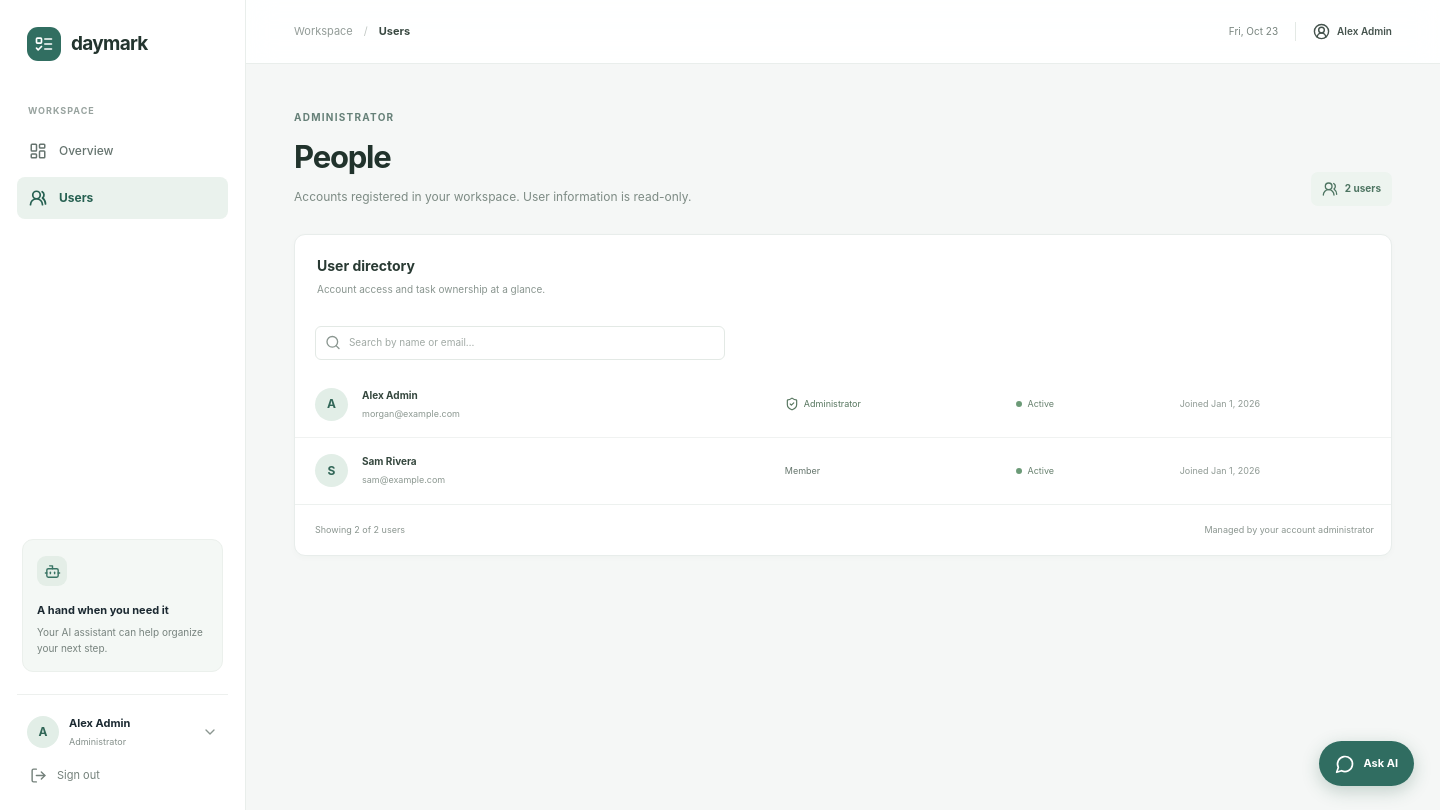
Test: authentication and route access › lets admins search the supported read-only user directory
The width and height of the screenshot is (1440, 810).
Expected: the heading "People" is shown, [294,138,390,175]
Expected: the text "Sam Rivera" is shown, [362,455,417,467]
Step 1. Type "alex" into the field named "Search users" → x=532, y=342, box [349,335,715,350]
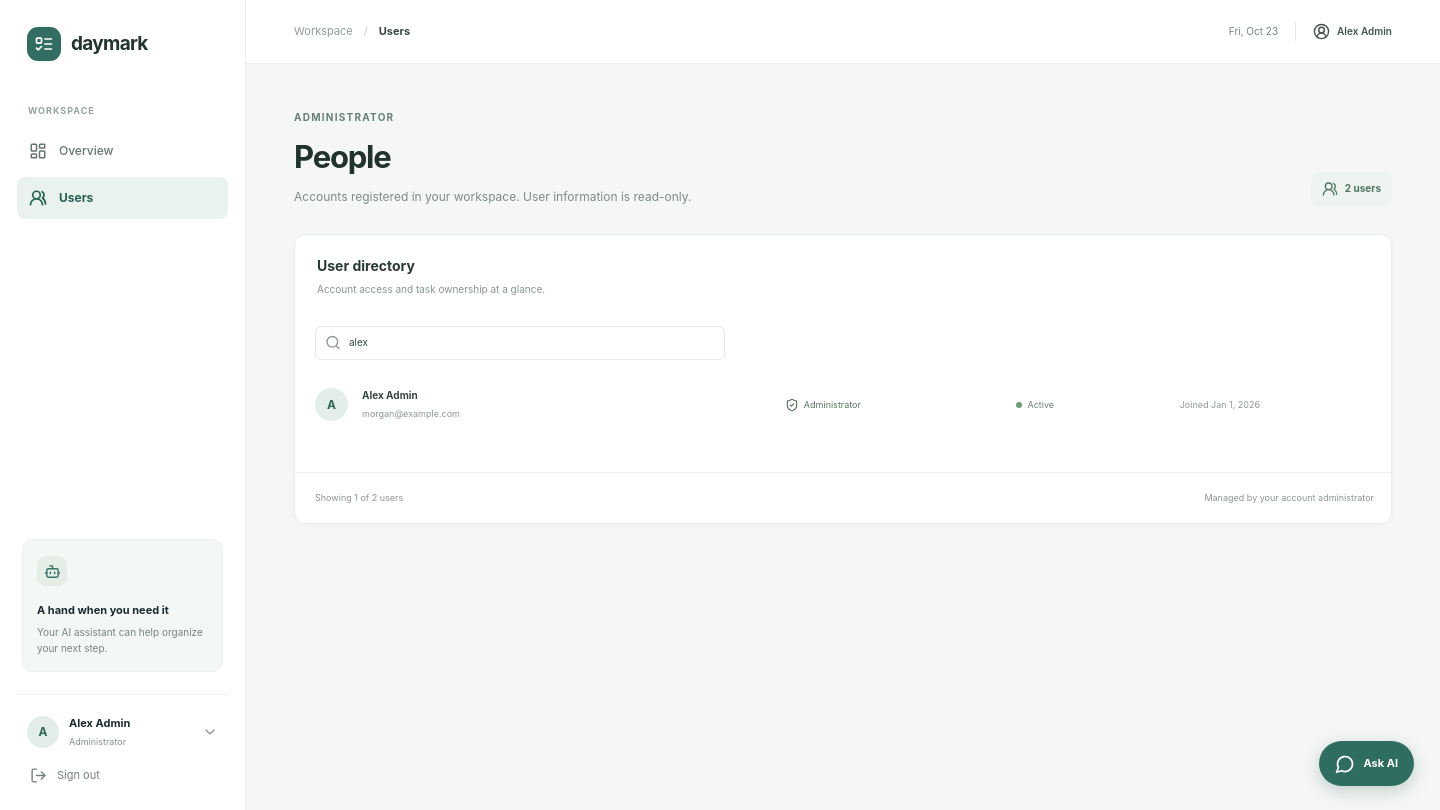
Expected: the text "Alex Admin" in the row of "Active" is shown, [362,389,418,401]
Expected: the text "Sam Rivera" is gone
